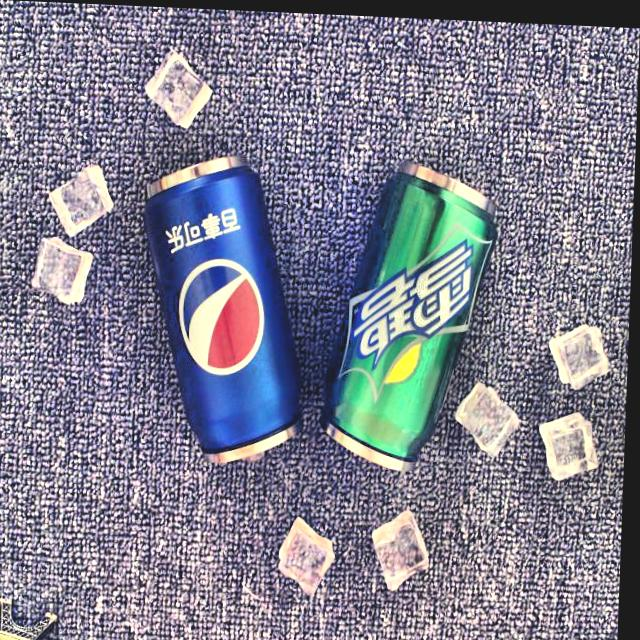can: (325, 150, 515, 490), (133, 146, 321, 470)
